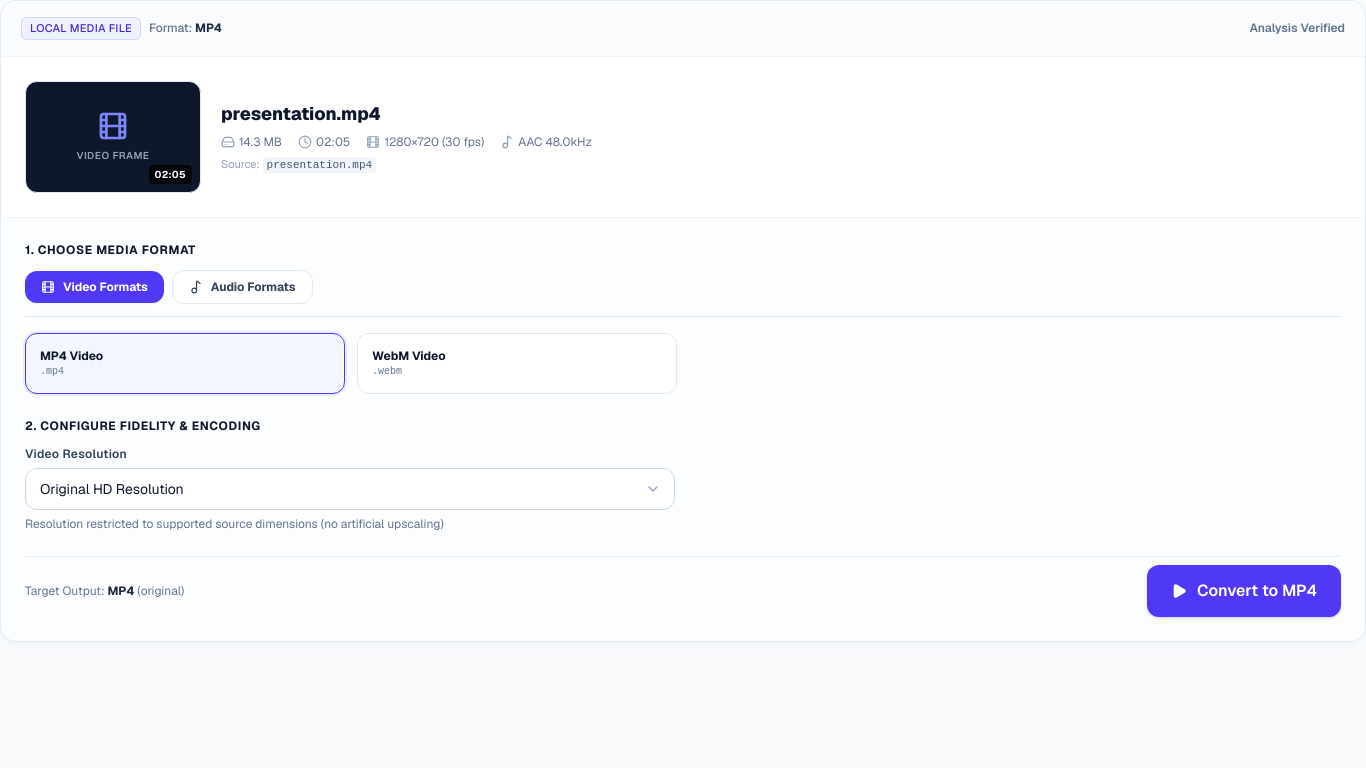
Test case: MediaResultCard UI State Machine › submits job, polls real progress, and renders download button on completion
Click the button "Convert to MP4" at (1244, 590), box [1147,564,1341,616]
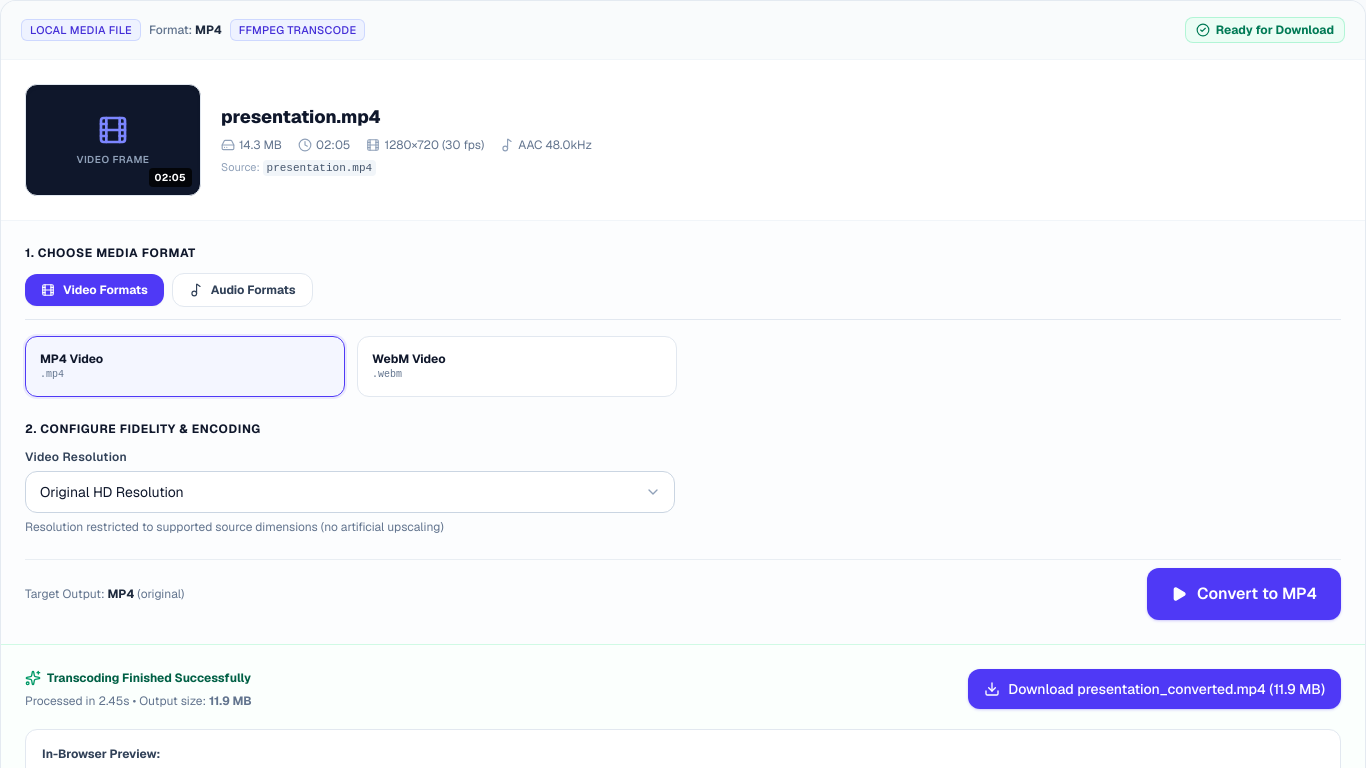
Check: the text "Ready for Download" is shown, box [1185,17,1345,43]
Check: the button "Download presentation_converted.mp4 (11.9 MB)" is shown, box [968,669,1341,709]
